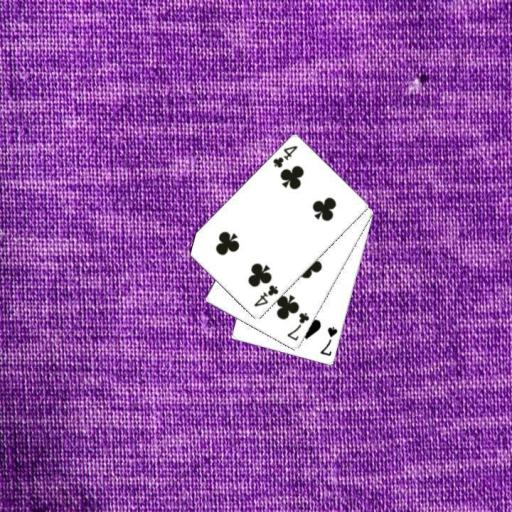card-corner: (284, 309, 310, 343), (270, 143, 300, 170), (251, 282, 280, 308), (317, 324, 339, 358)
